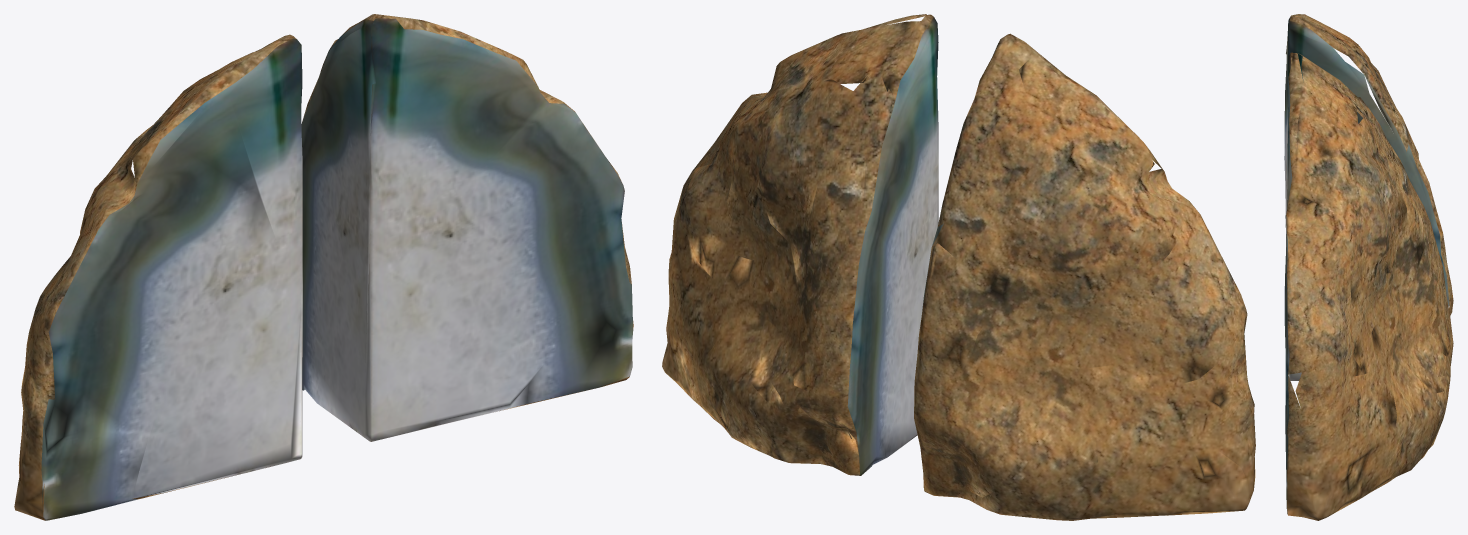
3 views of the same model, side by side, from view 1: azimuth 30°, elevation 25°; view 2: azimuth 150°, elevation 25°; view 3: azimuth 270°, elevation 25° (orthographic). The views are drawn at different scales.
Parts seen in each view (by area): view 1: 80723_AgateBookendGreen001; view 2: 80723_AgateBookendGreen001; view 3: 80723_AgateBookendGreen001.
Part boxes in pixels (x1,y1,x2,y2): 80723_AgateBookendGreen001: (14, 14, 633, 520); 80723_AgateBookendGreen001: (662, 14, 1255, 520); 80723_AgateBookendGreen001: (1284, 14, 1453, 520).
Bounding box in the file's own units: 130 × 86.74 × 36.74.
Materials: 1 (1 with a texture image).
